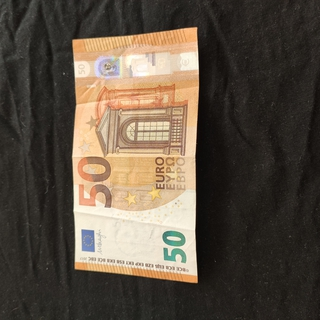50EUROFront: (70, 25, 200, 284)
